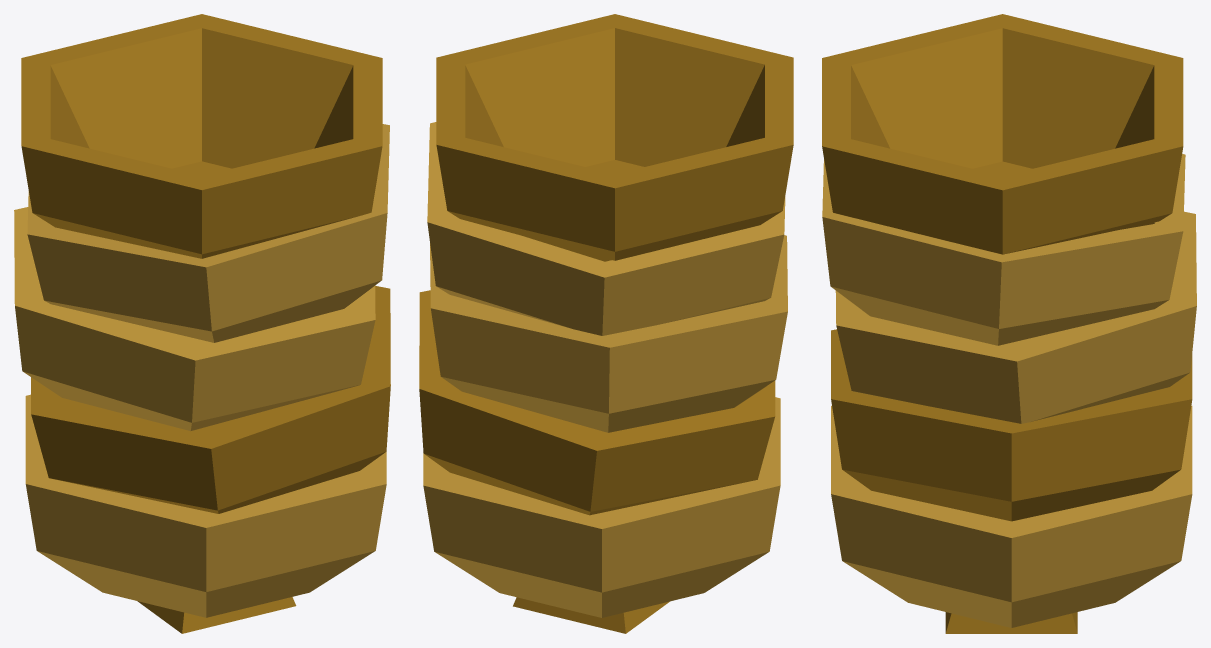
Rendered from Stacked Bowls 01.fbx.
3 renders of one model, left to right at view 1: azimuth 30°, elevation 25°; view 2: azimuth 150°, elevation 25°; view 3: azimuth 270°, elevation 25°, orthographic.
Visible parts, largest first — view 1: Stacked_Bowls_01; view 2: Stacked_Bowls_01; view 3: Stacked_Bowls_01.
Boxes of the visible parts, x1,y1,x2,y2 form: Stacked_Bowls_01: [14, 14, 390, 633]; Stacked_Bowls_01: [419, 14, 793, 633]; Stacked_Bowls_01: [822, 14, 1196, 633].
Size of the model in its own units: 38.87 by 49.6 by 33.73.
